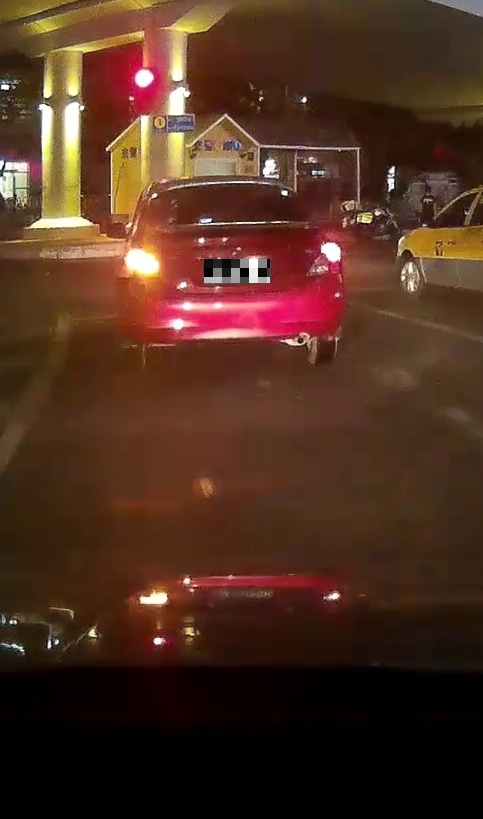L_light: (126, 249, 164, 280)
R_light: (306, 241, 343, 276)
T_light: (217, 183, 252, 190)
night-left: (119, 178, 346, 367)
plate_1: (204, 259, 270, 283)
